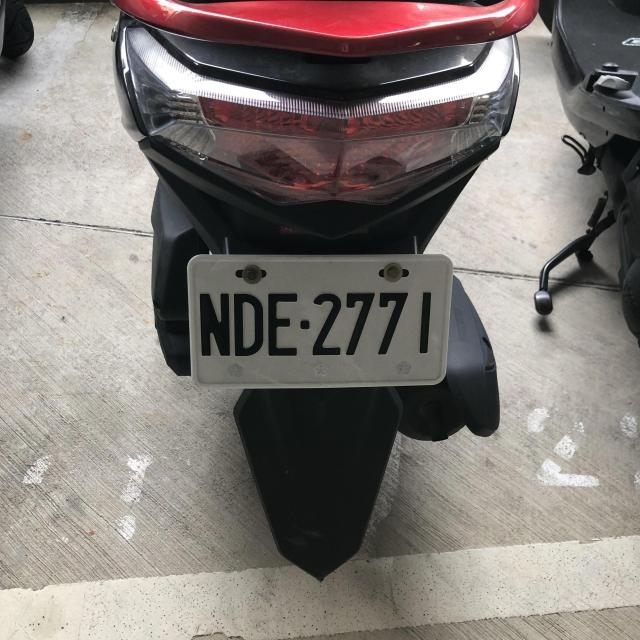W: (187, 251, 450, 387)
